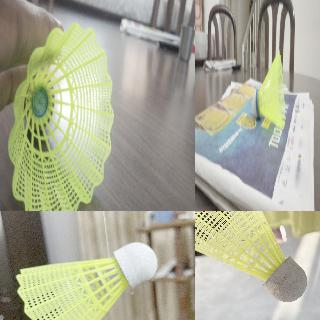shuttlecock: (8, 22, 113, 210), (15, 242, 157, 319), (195, 211, 307, 302), (252, 52, 284, 129)
